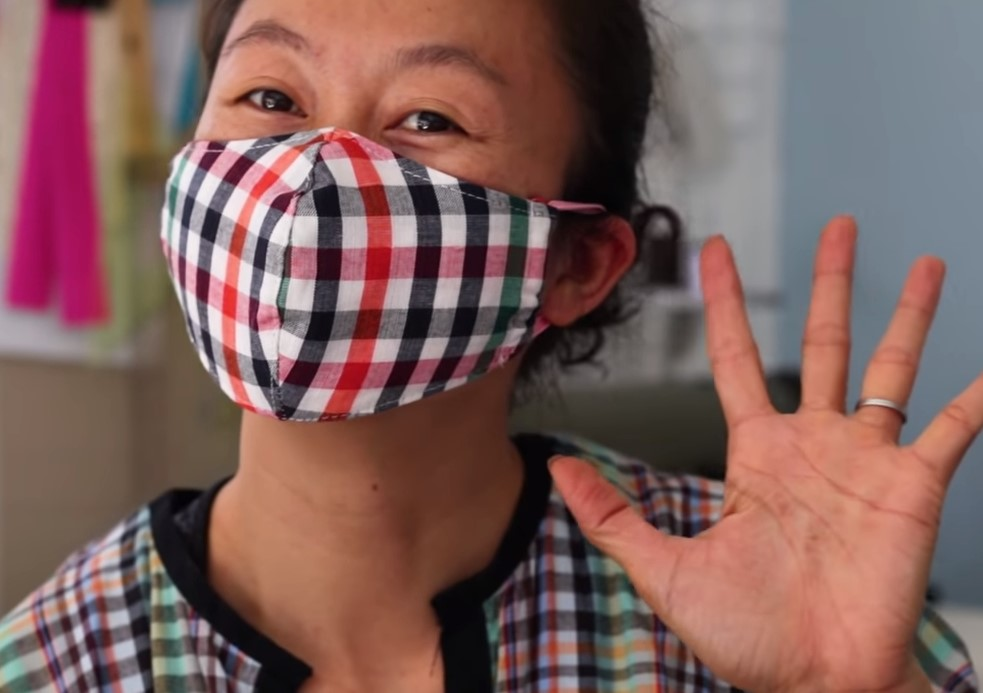face_with_mask: (163, 8, 658, 428)
